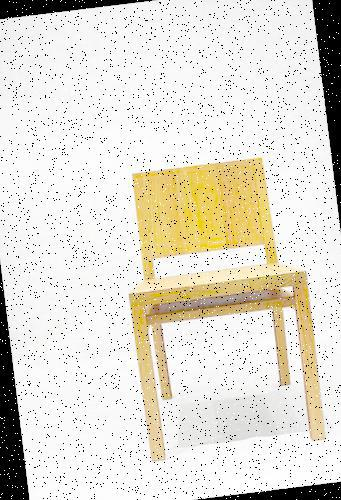Silla: (118, 152, 328, 467)
